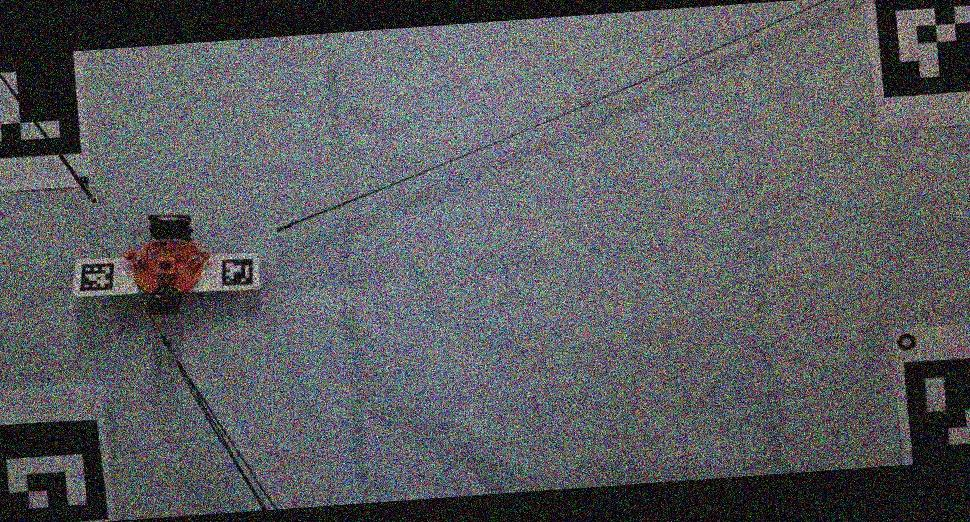robot: (122, 214, 212, 312)
